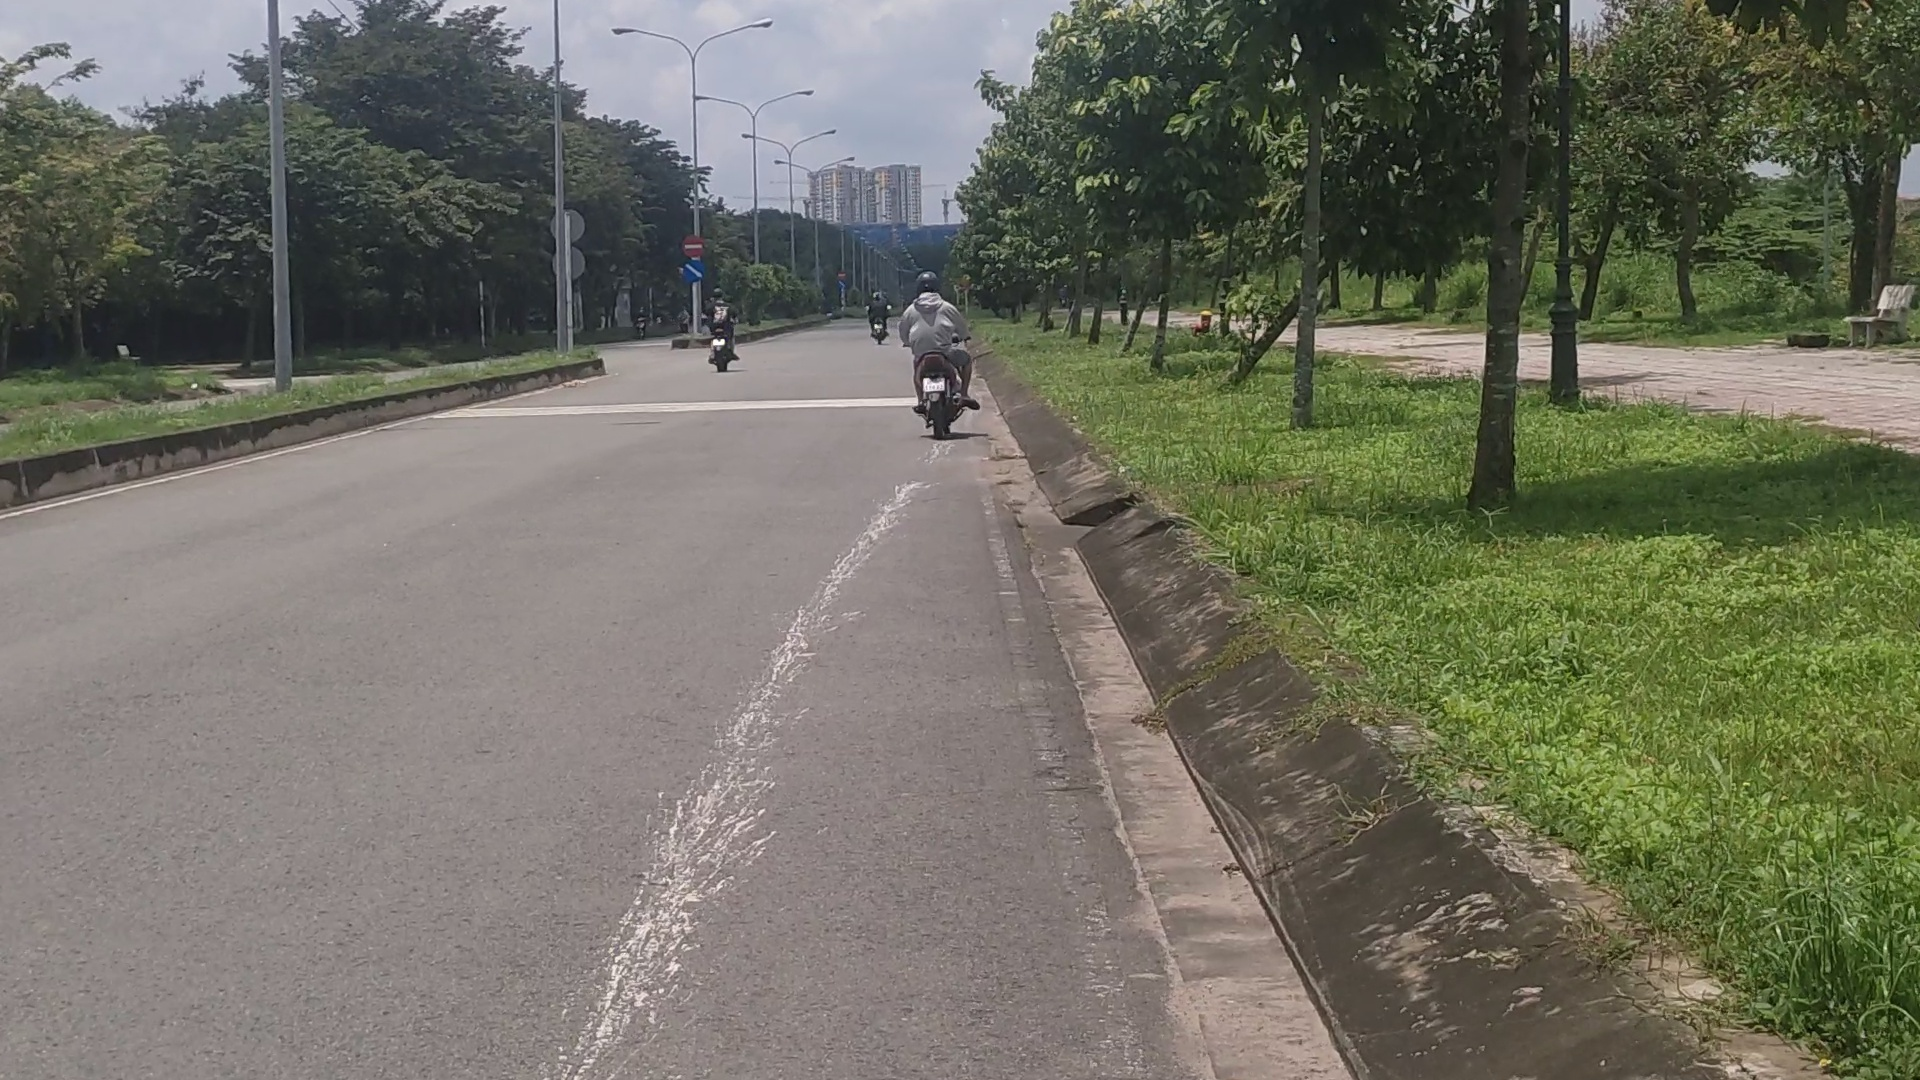P.102: (683, 233, 704, 257)
R.302a: (682, 260, 704, 282)
